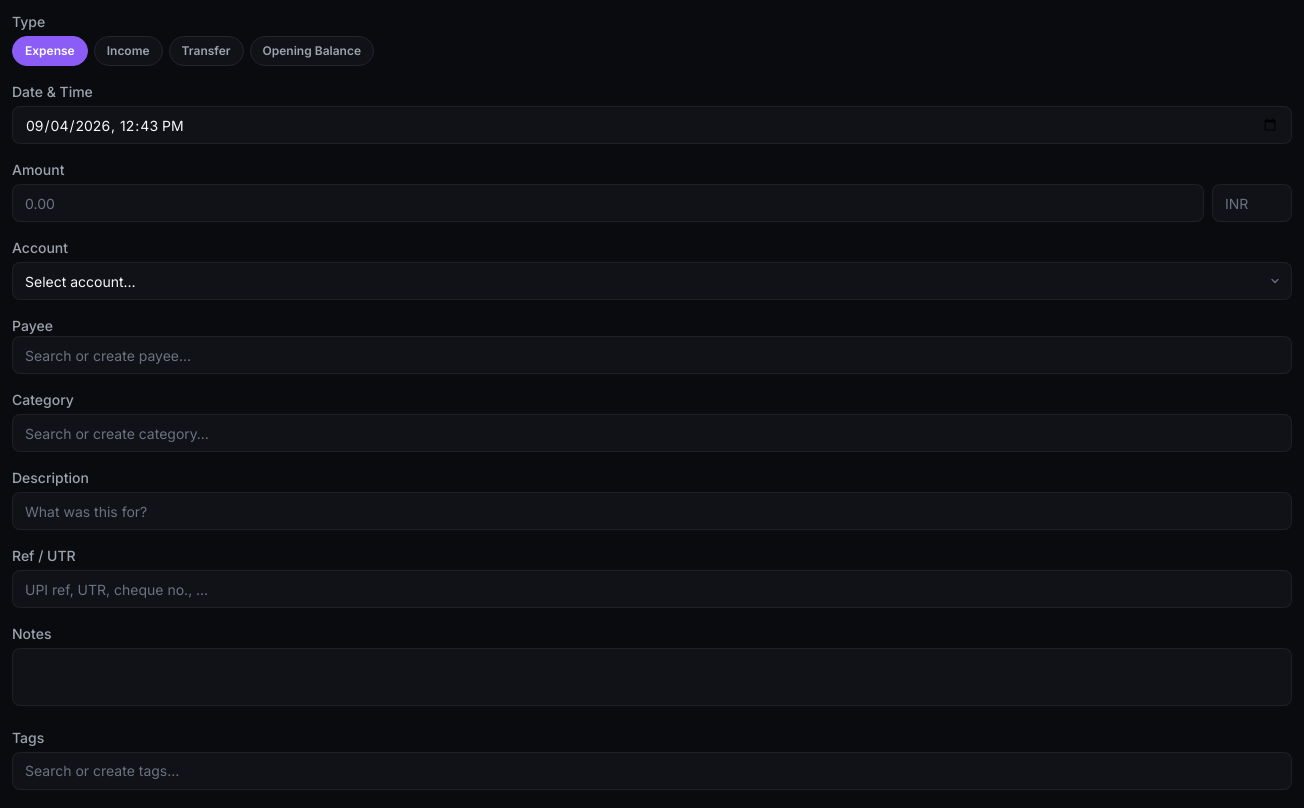
Scenario: TransactionForm component › shows destination account field when transfer is selected
Step 1. Click the button "Transfer" → (206, 51), box [169, 36, 244, 66]
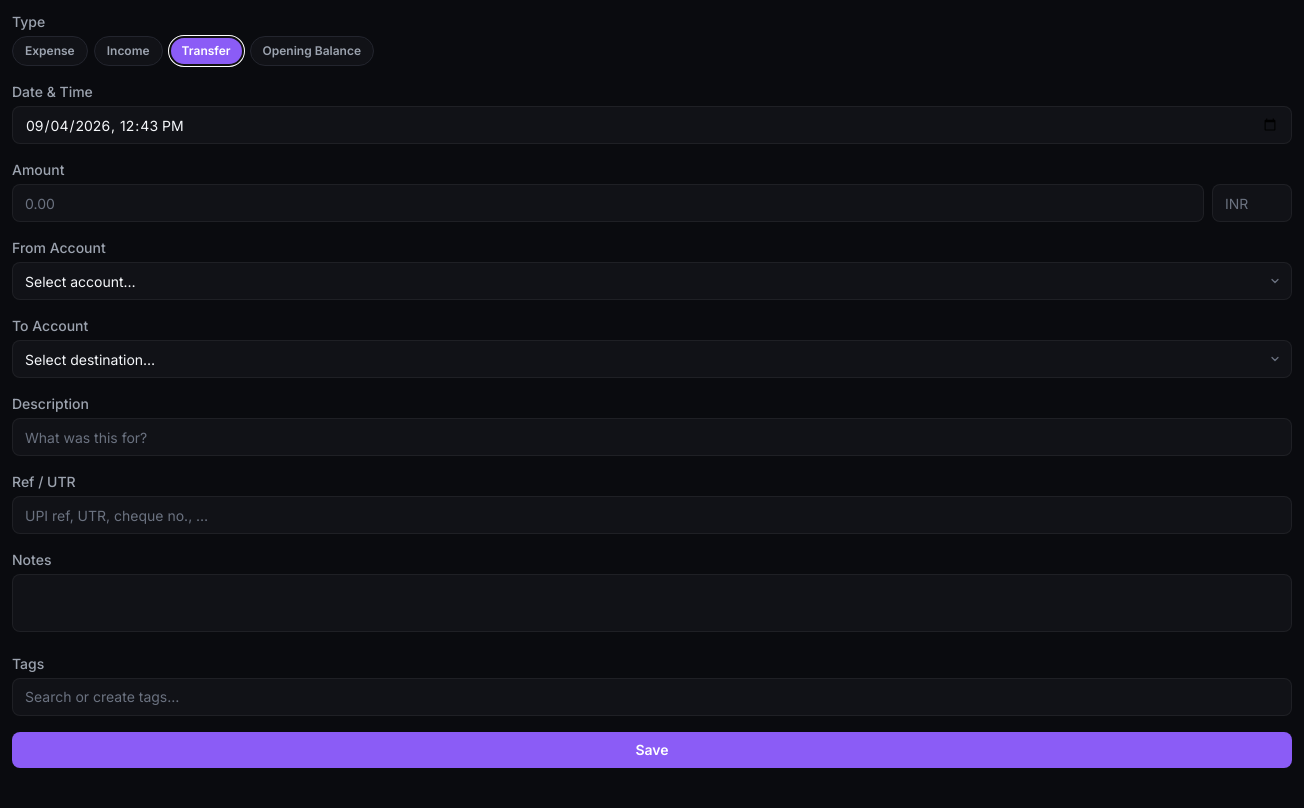
Result: the dropdown labelled "To Account" is shown at [12, 340, 1292, 378]
